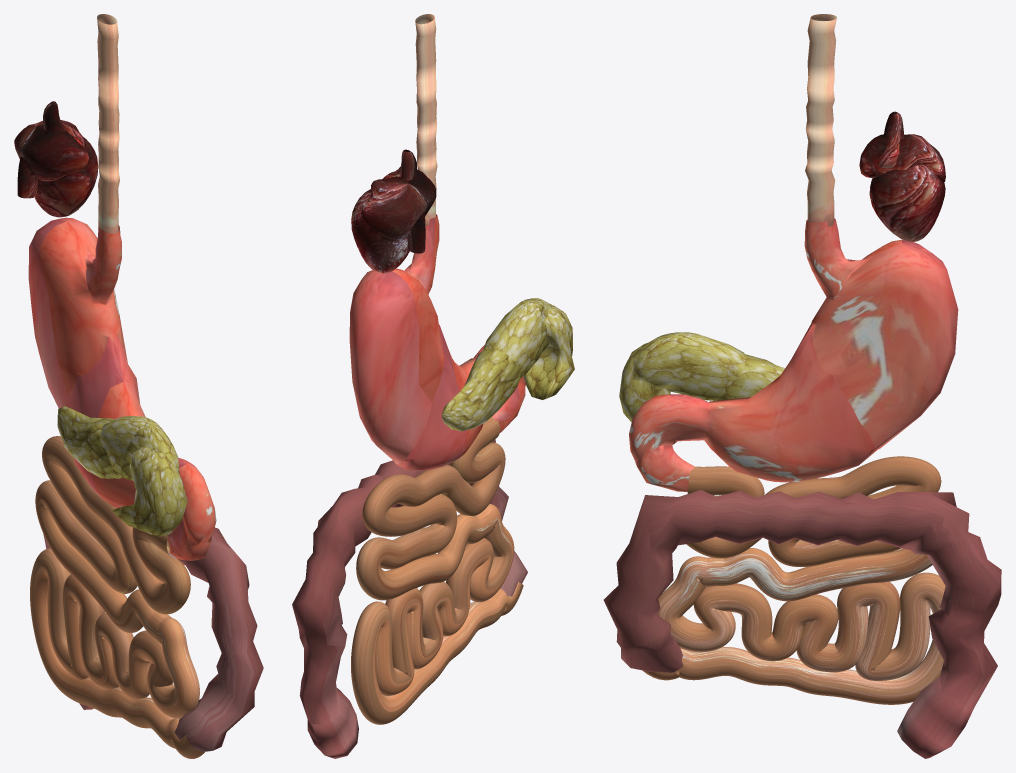
File: DigestiveSystem.fbx
The picture shows the model from 3 angles, left to right: view 1: azimuth 30°, elevation 25°; view 2: azimuth 150°, elevation 25°; view 3: azimuth 270°, elevation 25°; orthographic projection. The views are drawn at different scales.
Visible parts, largest first — view 1: SmallIntestine, Stomach, LargeIntestine, Pancreas, Heart, Esophagus; view 2: SmallIntestine, Stomach, LargeIntestine, Pancreas, Heart, Esophagus; view 3: SmallIntestine, Stomach, LargeIntestine, Pancreas, Heart, Esophagus.
Part boxes in pixels (x1,y1,x2,y2): SmallIntestine: [30, 436, 204, 758]; Stomach: [28, 217, 216, 560]; LargeIntestine: [43, 525, 263, 751]; Pancreas: [57, 406, 187, 536]; Heart: [14, 101, 98, 217]; Esophagus: [97, 14, 119, 233]; SmallIntestine: [351, 417, 523, 724]; Stomach: [349, 214, 525, 470]; LargeIntestine: [292, 439, 527, 758]; Pancreas: [442, 298, 574, 431]; Heart: [351, 149, 436, 273]; Esophagus: [415, 14, 437, 225]; SmallIntestine: [642, 456, 945, 704]; Stomach: [629, 218, 958, 491]; LargeIntestine: [603, 490, 1001, 758]; Pancreas: [619, 332, 784, 421]; Heart: [859, 111, 945, 241]; Esophagus: [805, 14, 836, 226].
Size of the model in its own units: 424 by 2474 by 1236.
Materials: 6 (6 with a texture image).
